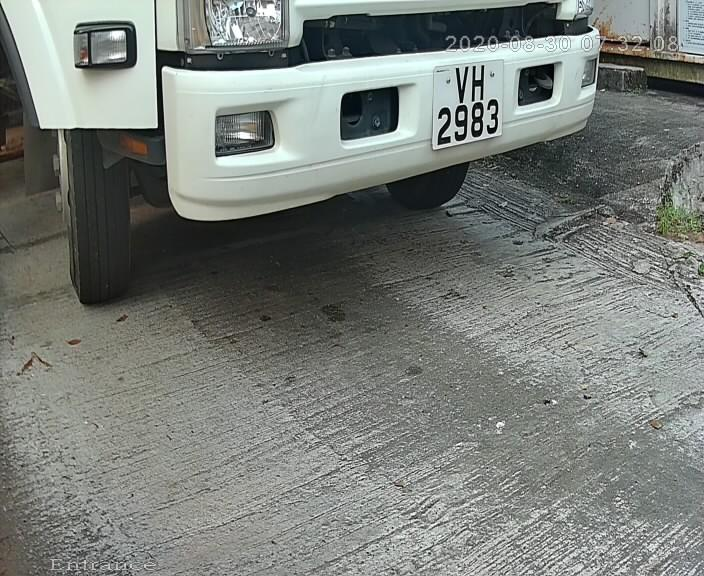License Plate: (400, 47, 522, 163)
